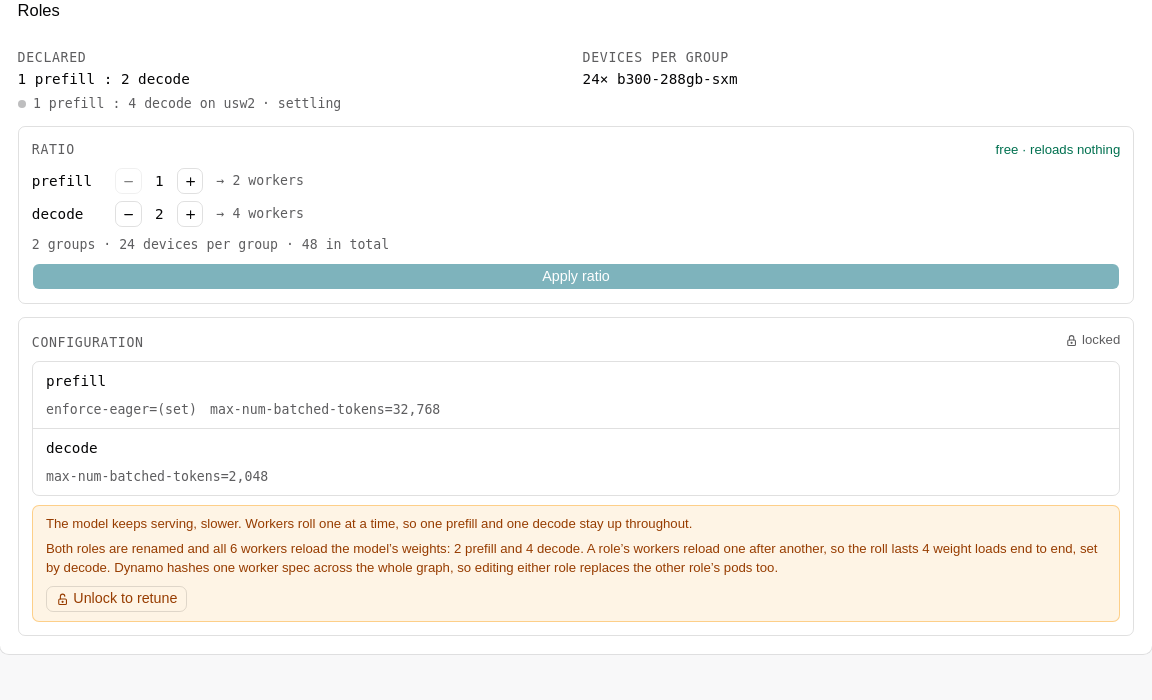
Scenario: the roles panel › re-locks and forgets the edit on cancel
Click the button "Unlock to retune": click(117, 599) [46,586,187,612]
(page scrolled)
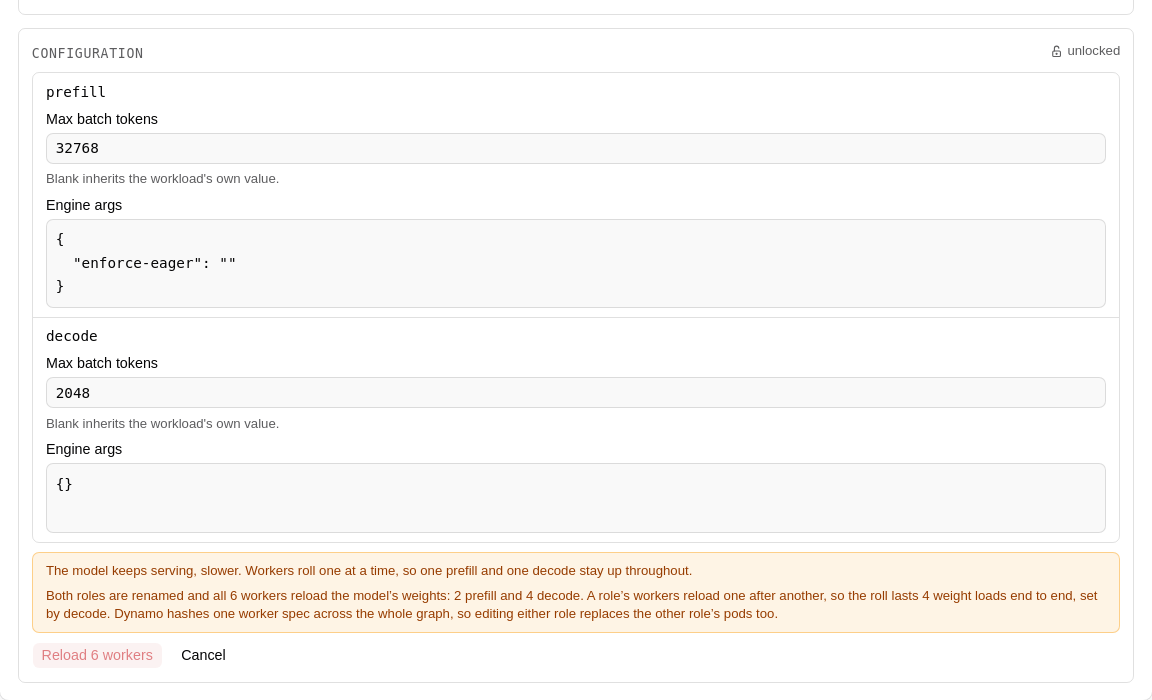
Click the button "Cancel": click(203, 656) [171,642,236,669]
(page scrolled)
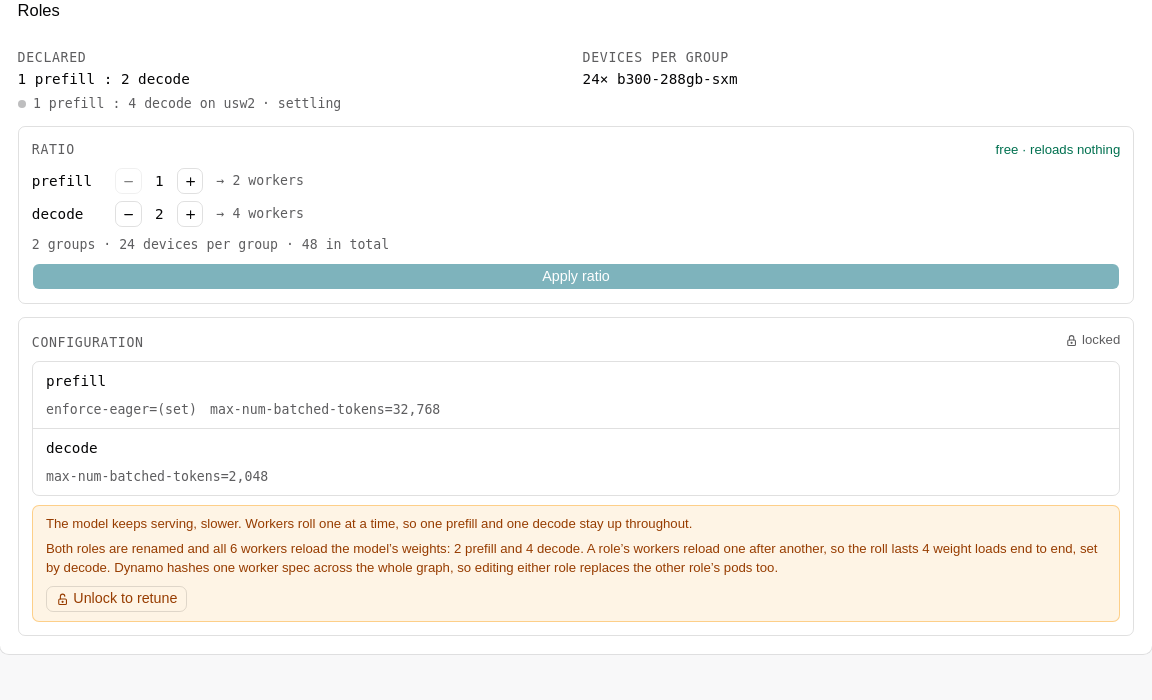
Expected: the text "locked" is shown, [1064,331,1120,350]
Expected: the label labelled "Max batch tokens" is gone
